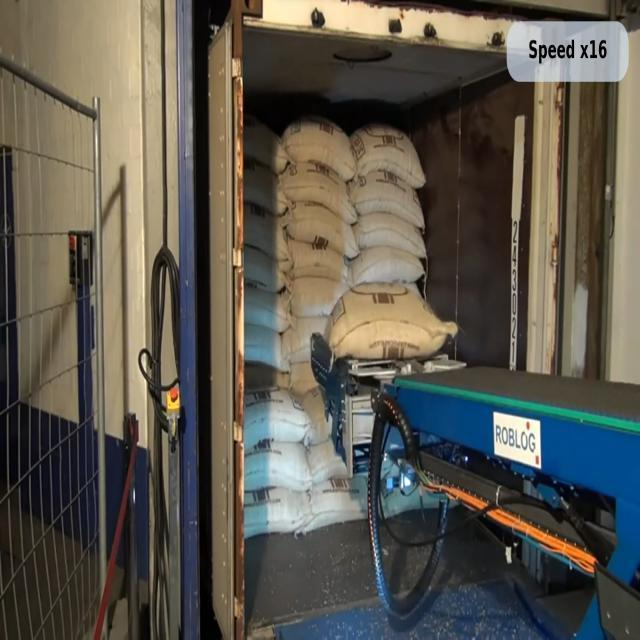gunny_bag: (325, 283, 458, 359), (244, 387, 332, 453), (350, 122, 426, 187), (282, 116, 357, 180), (281, 161, 357, 223), (349, 169, 425, 230), (287, 201, 360, 257), (244, 440, 313, 491), (353, 211, 427, 258), (244, 487, 310, 538), (348, 245, 425, 286), (244, 202, 291, 269), (288, 237, 349, 282), (243, 116, 291, 173), (243, 161, 291, 215), (244, 285, 293, 332), (244, 323, 290, 371), (244, 245, 287, 292)
